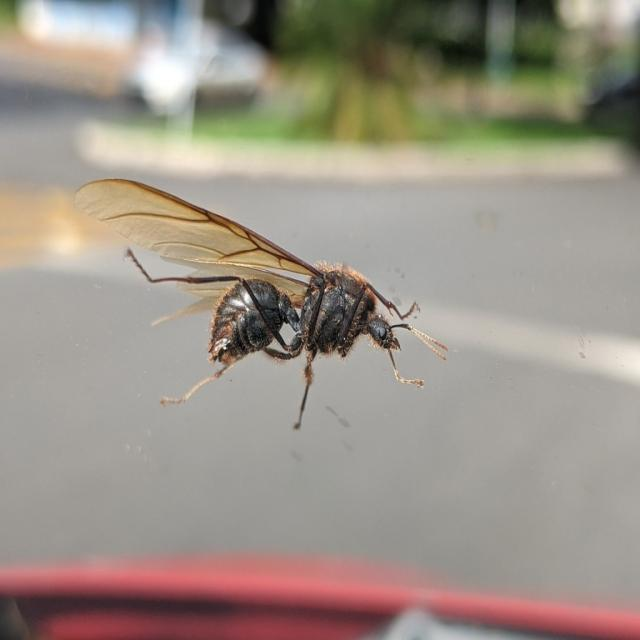Alive-Male-Alate: (74, 178, 448, 430)
